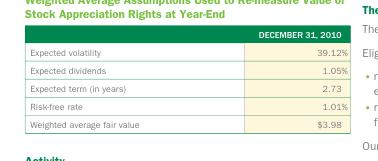table: (29, 28, 346, 129)
table column: (29, 28, 198, 129), (198, 28, 346, 129)
table column header: (29, 28, 346, 42)
table row: (29, 42, 346, 61), (29, 61, 346, 79), (29, 79, 346, 97), (29, 97, 346, 115), (29, 28, 346, 42), (29, 115, 346, 129)
